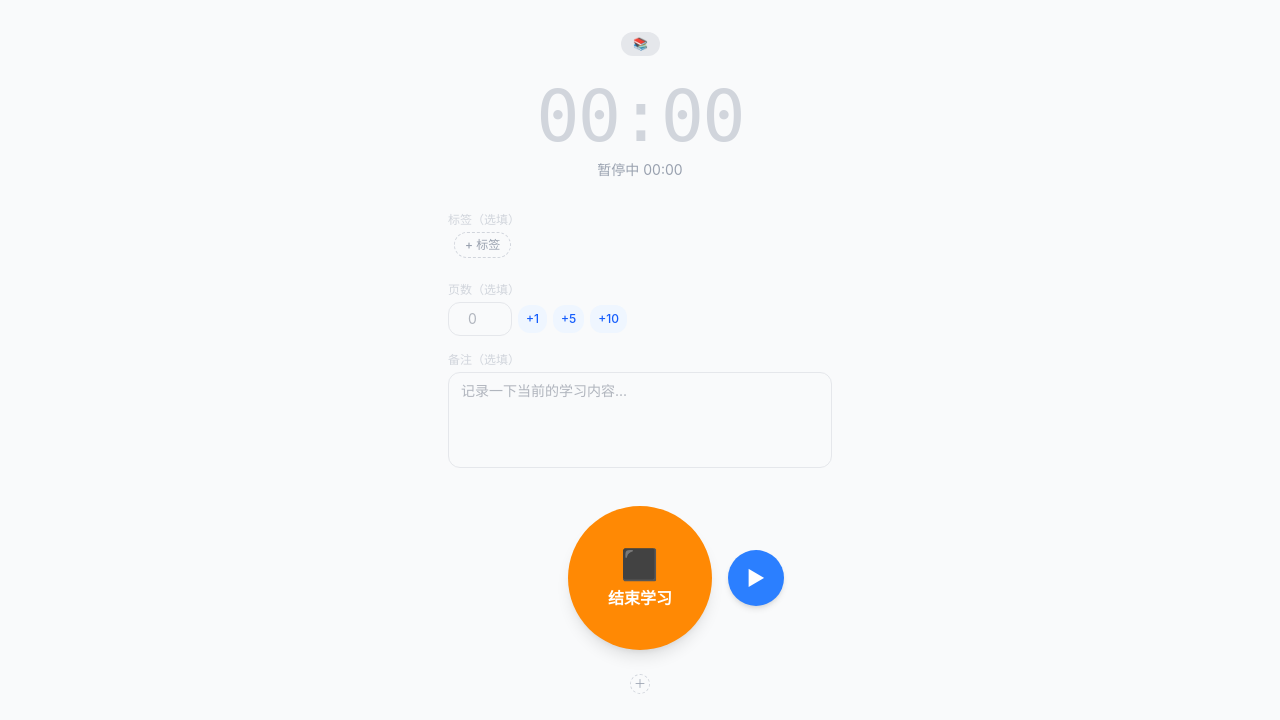
Scenario: TimerPage › 暂停态结束确认弹窗 → 返回学习关闭弹窗
Click the text "结束学习" at {"x": 640, "y": 598}, box [608,586,672,610]
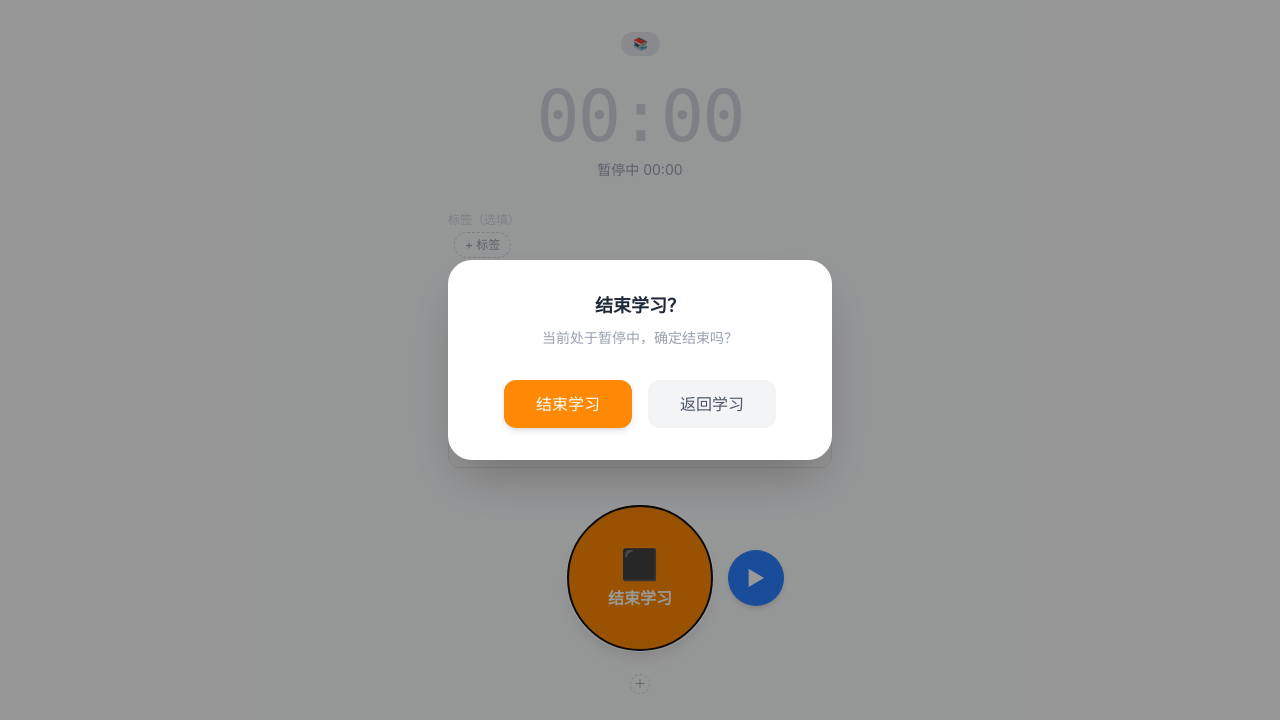
expect the text "当前处于暂停中，确定结束吗？" is shown: met, box [542,329,738,346]
Click the button "返回学习" at {"x": 712, "y": 404}, box [648,380,776,428]
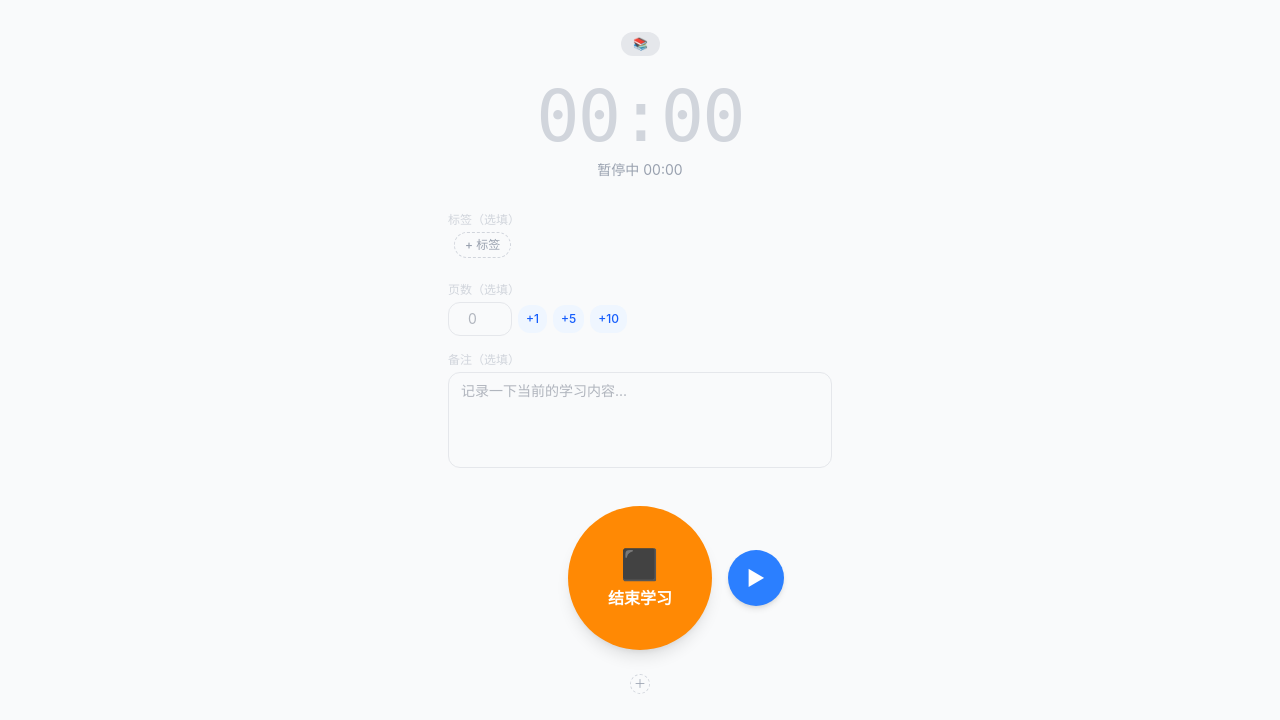
expect the text "当前处于暂停中，确定结束吗？" is gone: met
